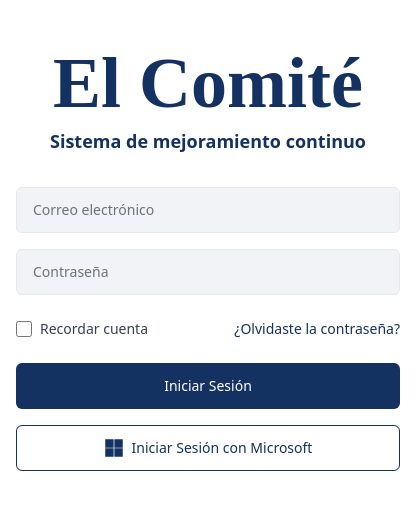
Scenario: Login Page › should show error message on login failure
This screenshot has width=417, height=529.
Type "bad@test.com" into the field with placeholder "Correo electrónico".
click(208, 210); type("bad@test.com")  # box left=16, top=187, right=400, bottom=233
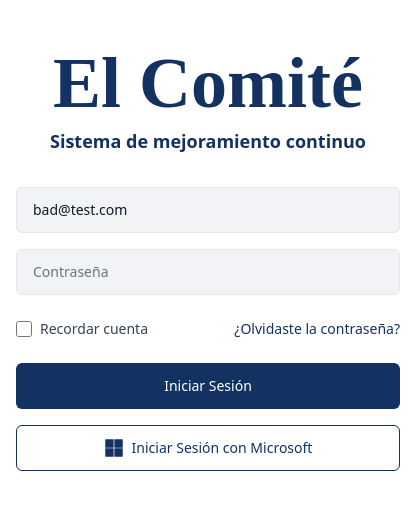
Type "wrong" into the password field with placeholder "Contraseña".
click(208, 272); type("wrong")  # box left=16, top=249, right=400, bottom=295
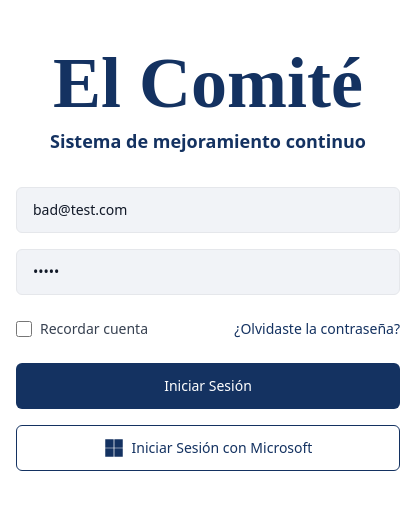
Submit the form from the button "Iniciar Sesión", box left=16, top=363, right=400, bottom=409
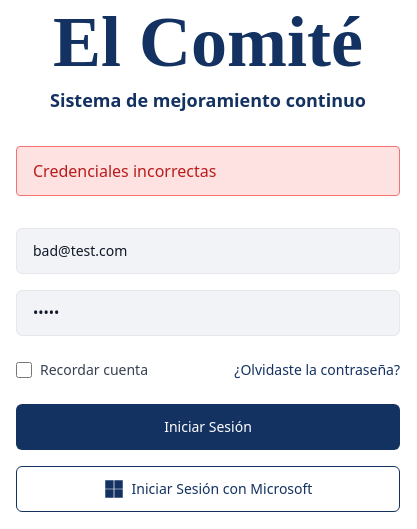
Expected: the text "Credenciales incorrectas" is shown, left=33, top=160, right=216, bottom=182
